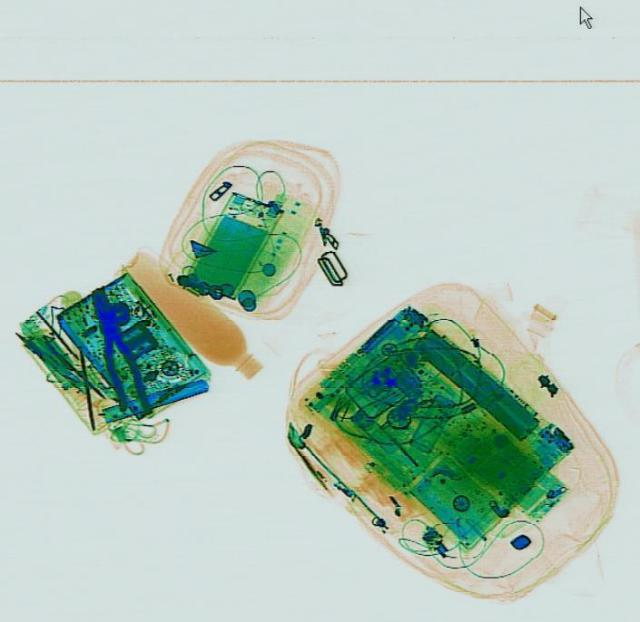Pliers: (84, 283, 152, 417)
